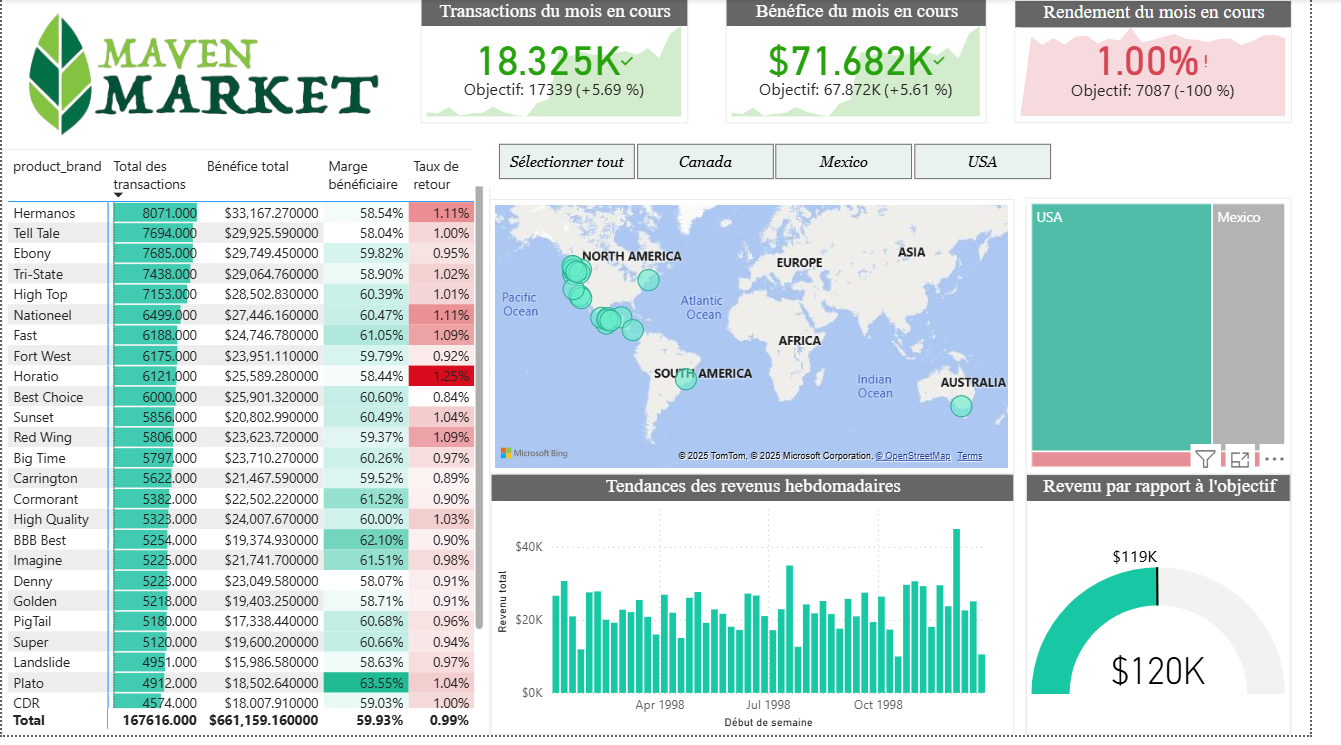

This screenshot's page, from the dashboard's own definition file:
{"tool":"powerbi","page":{"name":"Topline Performance","canvas":[1280,720],"ordinal":0},"visuals":[{"type":"pivotTable","fields":{"Rows":["Produits.product_brand"],"Values":["Transaction_Data.Total des transactions","Transaction_Data.Bénéfice total","Transaction_Data.Marge bénéficiaire","Return_Data.Taux de retour"]},"box":[0,146.2,477.5,573.8],"z":0},{"type":"kpi","title":"Transactions du mois en cours","fields":{"Indicator":["Transaction_Data.Total des transactions"],"TrendLine":["Calendrier.Début de mois"],"Goal":["Transaction_Data.Transactions du mois dernier"]},"box":[410,0,261.2,121.2],"z":1000},{"type":"kpi","title":"Bénéfice du mois en cours","fields":{"TrendLine":["Calendrier.Début de mois"],"Indicator":["Transaction_Data.Bénéfice total"],"Goal":["Transaction_Data.Bénéfice du mois dernier"]},"box":[707.5,0,255,121.2],"z":2000},{"type":"kpi","title":"Rendement du mois en cours","fields":{"TrendLine":["Calendrier.Début de mois"],"Indicator":["Return_Data.Taux de retour"],"Goal":["Return_Data.Retours du mois dernier"]},"box":[990,1.2,271.2,120],"z":3000},{"type":"map","fields":{"Category":["Stores.store_city"]},"box":[476.9,195.7,513.6,269],"z":4000},{"type":"treemap","fields":{"Values":["Transaction_Data.Total des transactions"],"Group":["Stores.Store_Country Hiérarchie.Store_Country","Stores.Store_Country Hiérarchie.store_state","Stores.Store_Country Hiérarchie.store_city"]},"box":[1001.2,195,260,270],"z":5000},{"type":"lineClusteredColumnComboChart","title":"Tendances des revenus hebdomadaires","fields":{"Y":["Transaction_Data.Revenu total"],"Category":["Calendrier.Année Hiérarchie.Année","Calendrier.Année Hiérarchie.Début de mois","Calendrier.Année Hiérarchie.Début de semaine"]},"box":[478.4,464.8,511.9,255.3],"z":6000},{"type":"gauge","title":"Revenu par rapport à l''objectif","fields":{"Y":["Transaction_Data.Revenu total"],"TargetValue":["Transaction_Data.Objectif de revenus"]},"box":[1001,465,260,255],"z":7000},{"type":"image","box":[0,0,391.6,146.2],"z":8000},{"type":"slicer","fields":{"Values":["Stores.Store_Country"]},"box":[460,135,590,48.8],"z":9000}]}

Visuals, with their boxes in screenshot pixels (x1, y1, x2, y2), scaled from the page's 1280x720 canvas onto the 1341x745 screenshot:
pivotTable - Produits.product_brand x Transaction_Data.Total des transactions: 0 151 500 744
"Transactions du mois en cours" kpi: 430 0 703 125
"Bénéfice du mois en cours" kpi: 741 0 1008 125
"Rendement du mois en cours" kpi: 1037 1 1321 125
map - Stores.store_city: 500 202 1038 481
treemap - Transaction_Data.Total des transactions x Stores.Store_Country Hiérarchie.Store_Country: 1049 202 1321 481
"Tendances des revenus hebdomadaires" lineClusteredColumnComboChart: 501 481 1037 744
"Revenu par rapport à l''objectif" gauge: 1049 481 1321 744
image: 0 0 410 151
slicer - Stores.Store_Country: 482 140 1100 190
